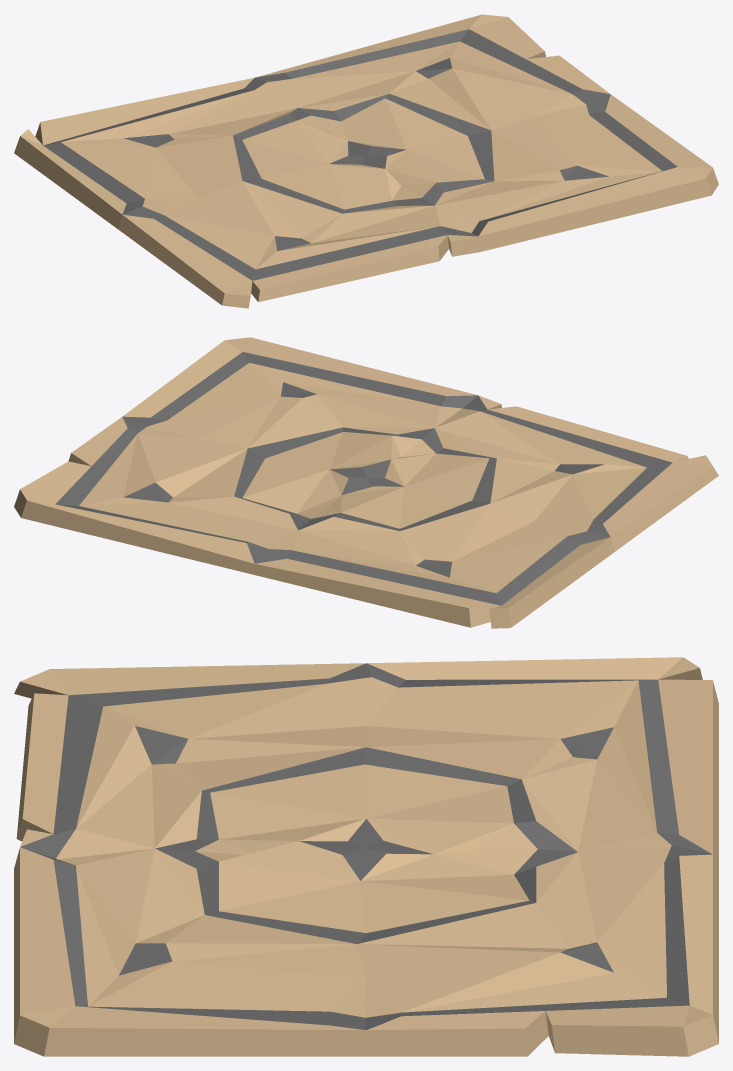
The model's file is SquareRug_White.fbx.
3 renders of one model, top to bottom at view 1: azimuth 30°, elevation 25°; view 2: azimuth 150°, elevation 25°; view 3: azimuth 270°, elevation 25°, orthographic. The views are drawn at different scales.
Visible parts, largest first — view 1: SquareRug_White; view 2: SquareRug_White; view 3: SquareRug_White.
Boxes of the visible parts, box(x1,y1,x2,y2) form: SquareRug_White: box(14, 14, 718, 308); SquareRug_White: box(14, 337, 718, 628); SquareRug_White: box(14, 657, 718, 1056).
Bounding box in the file's own units: 10.8 × 0.4311 × 8.57.
